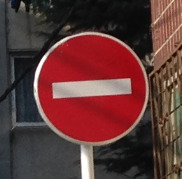no_entry: (33, 32, 149, 146)
